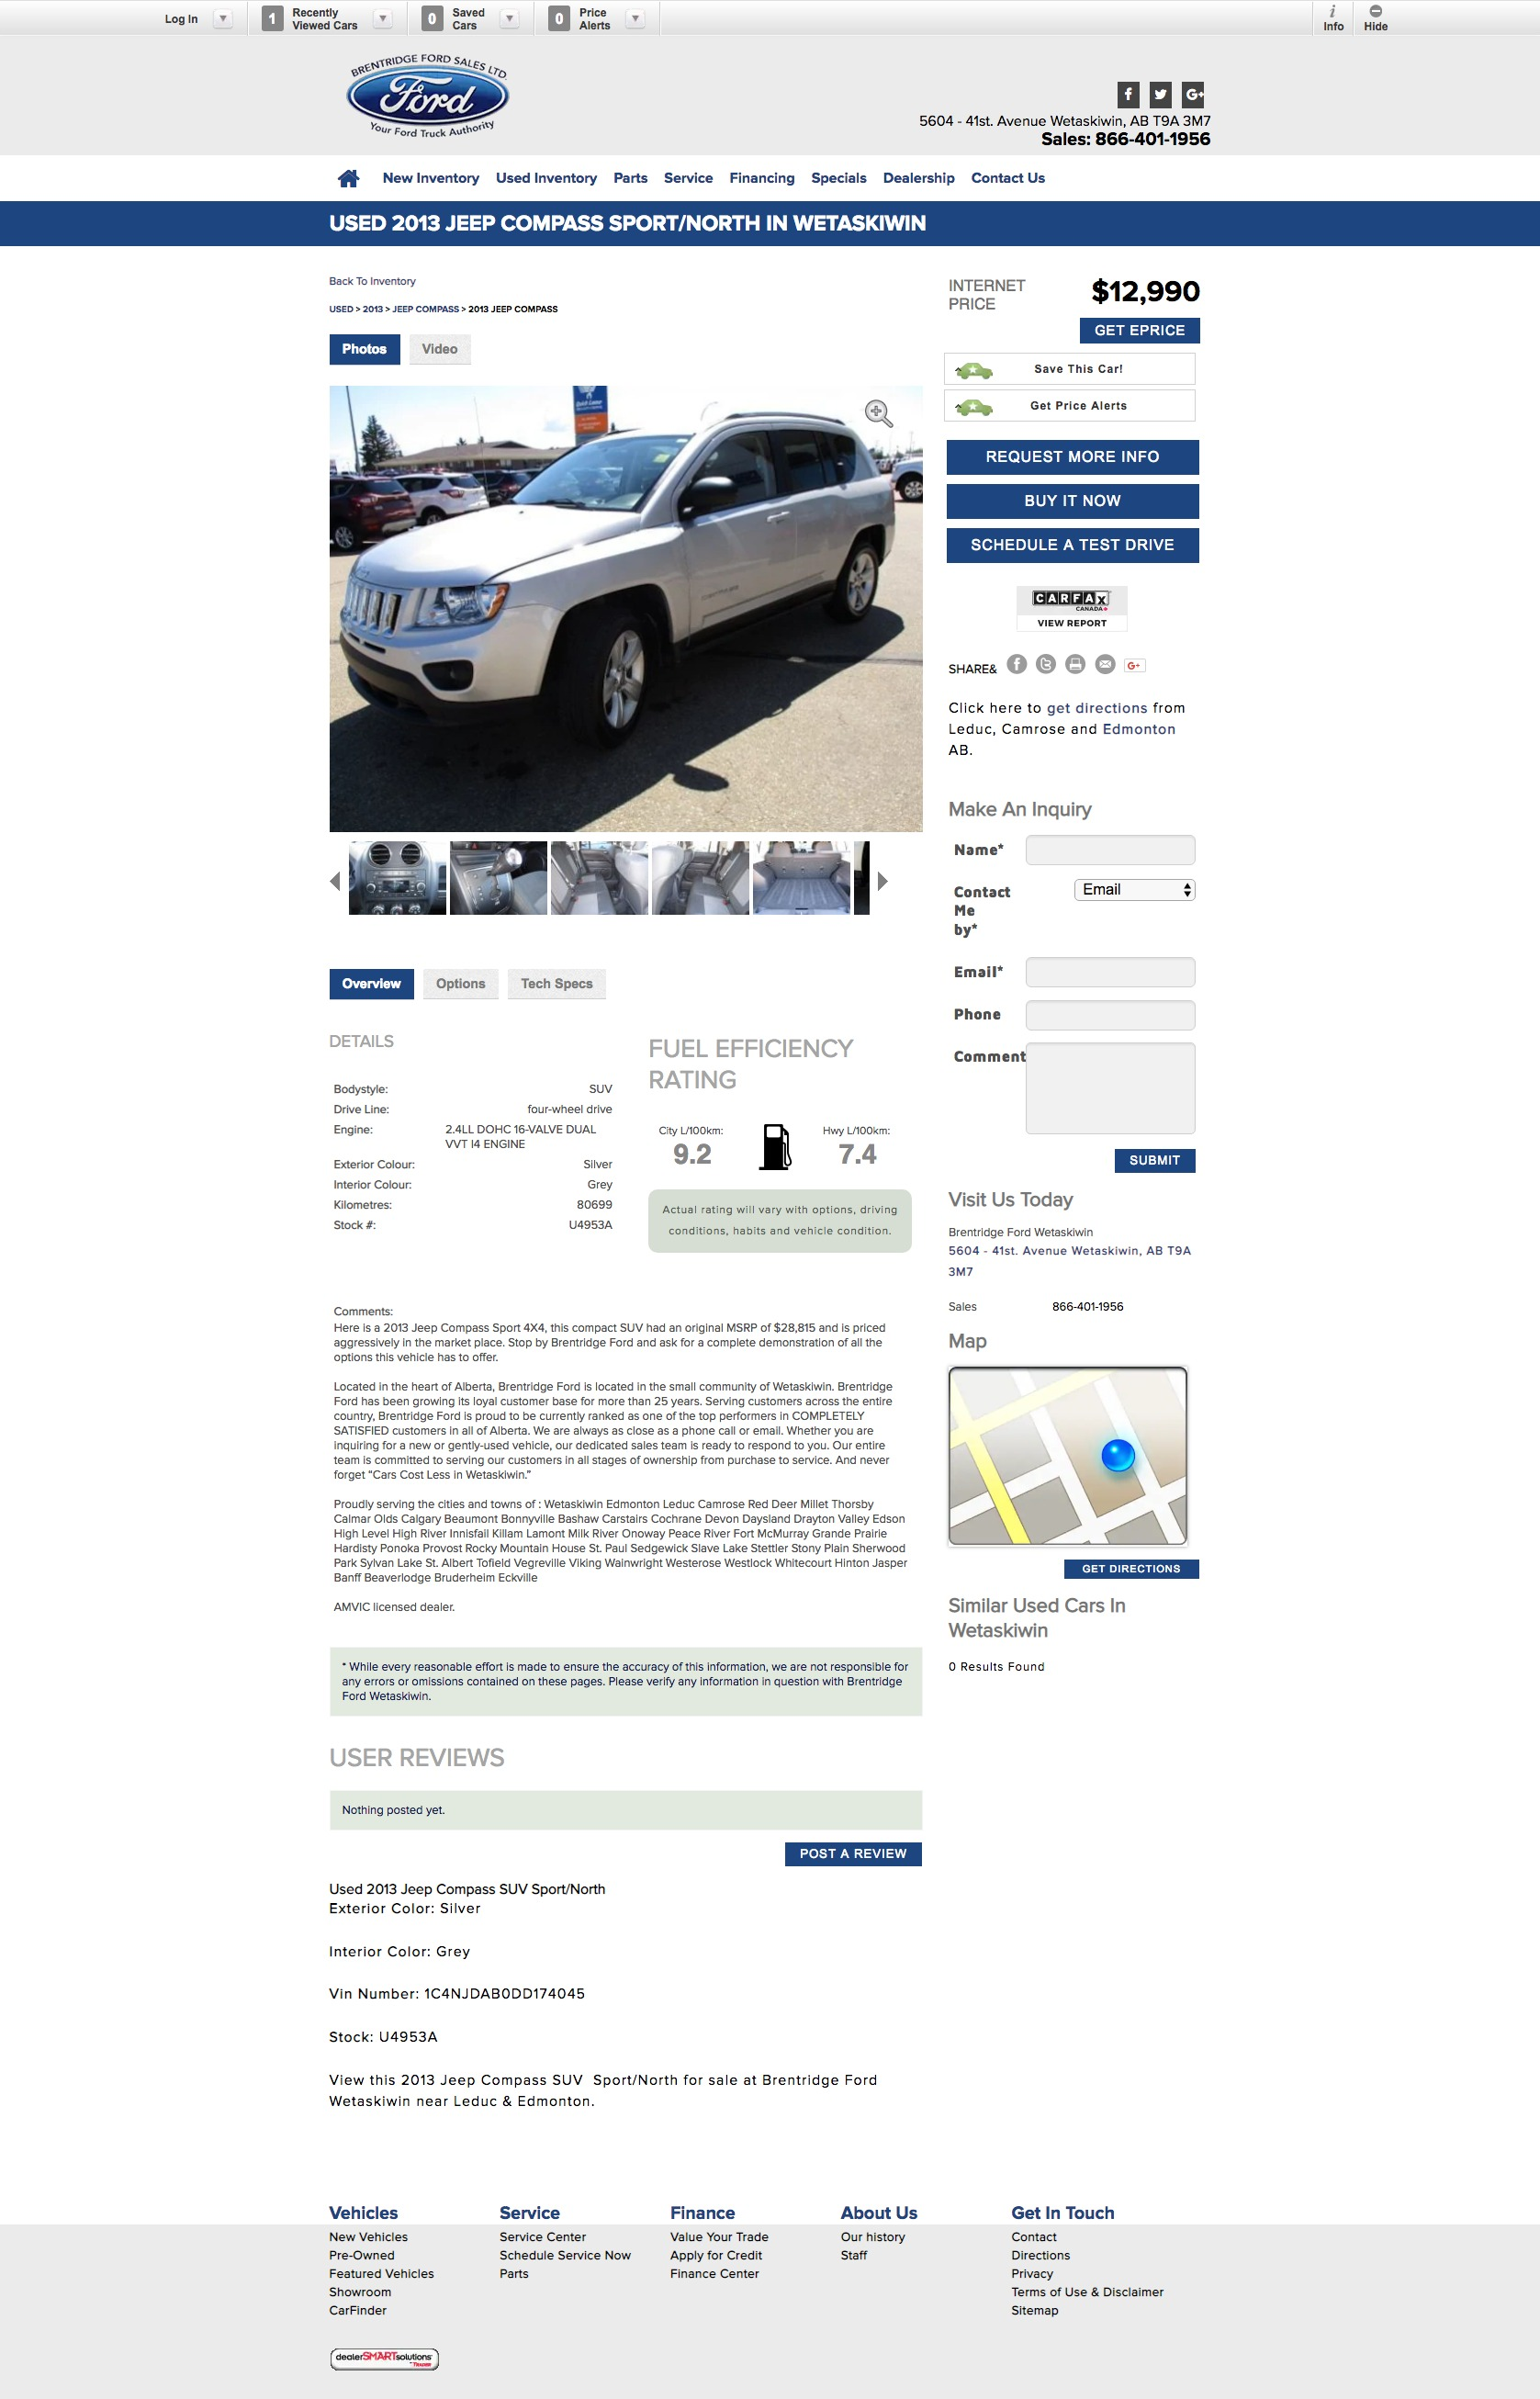car: (878, 873, 890, 894)
